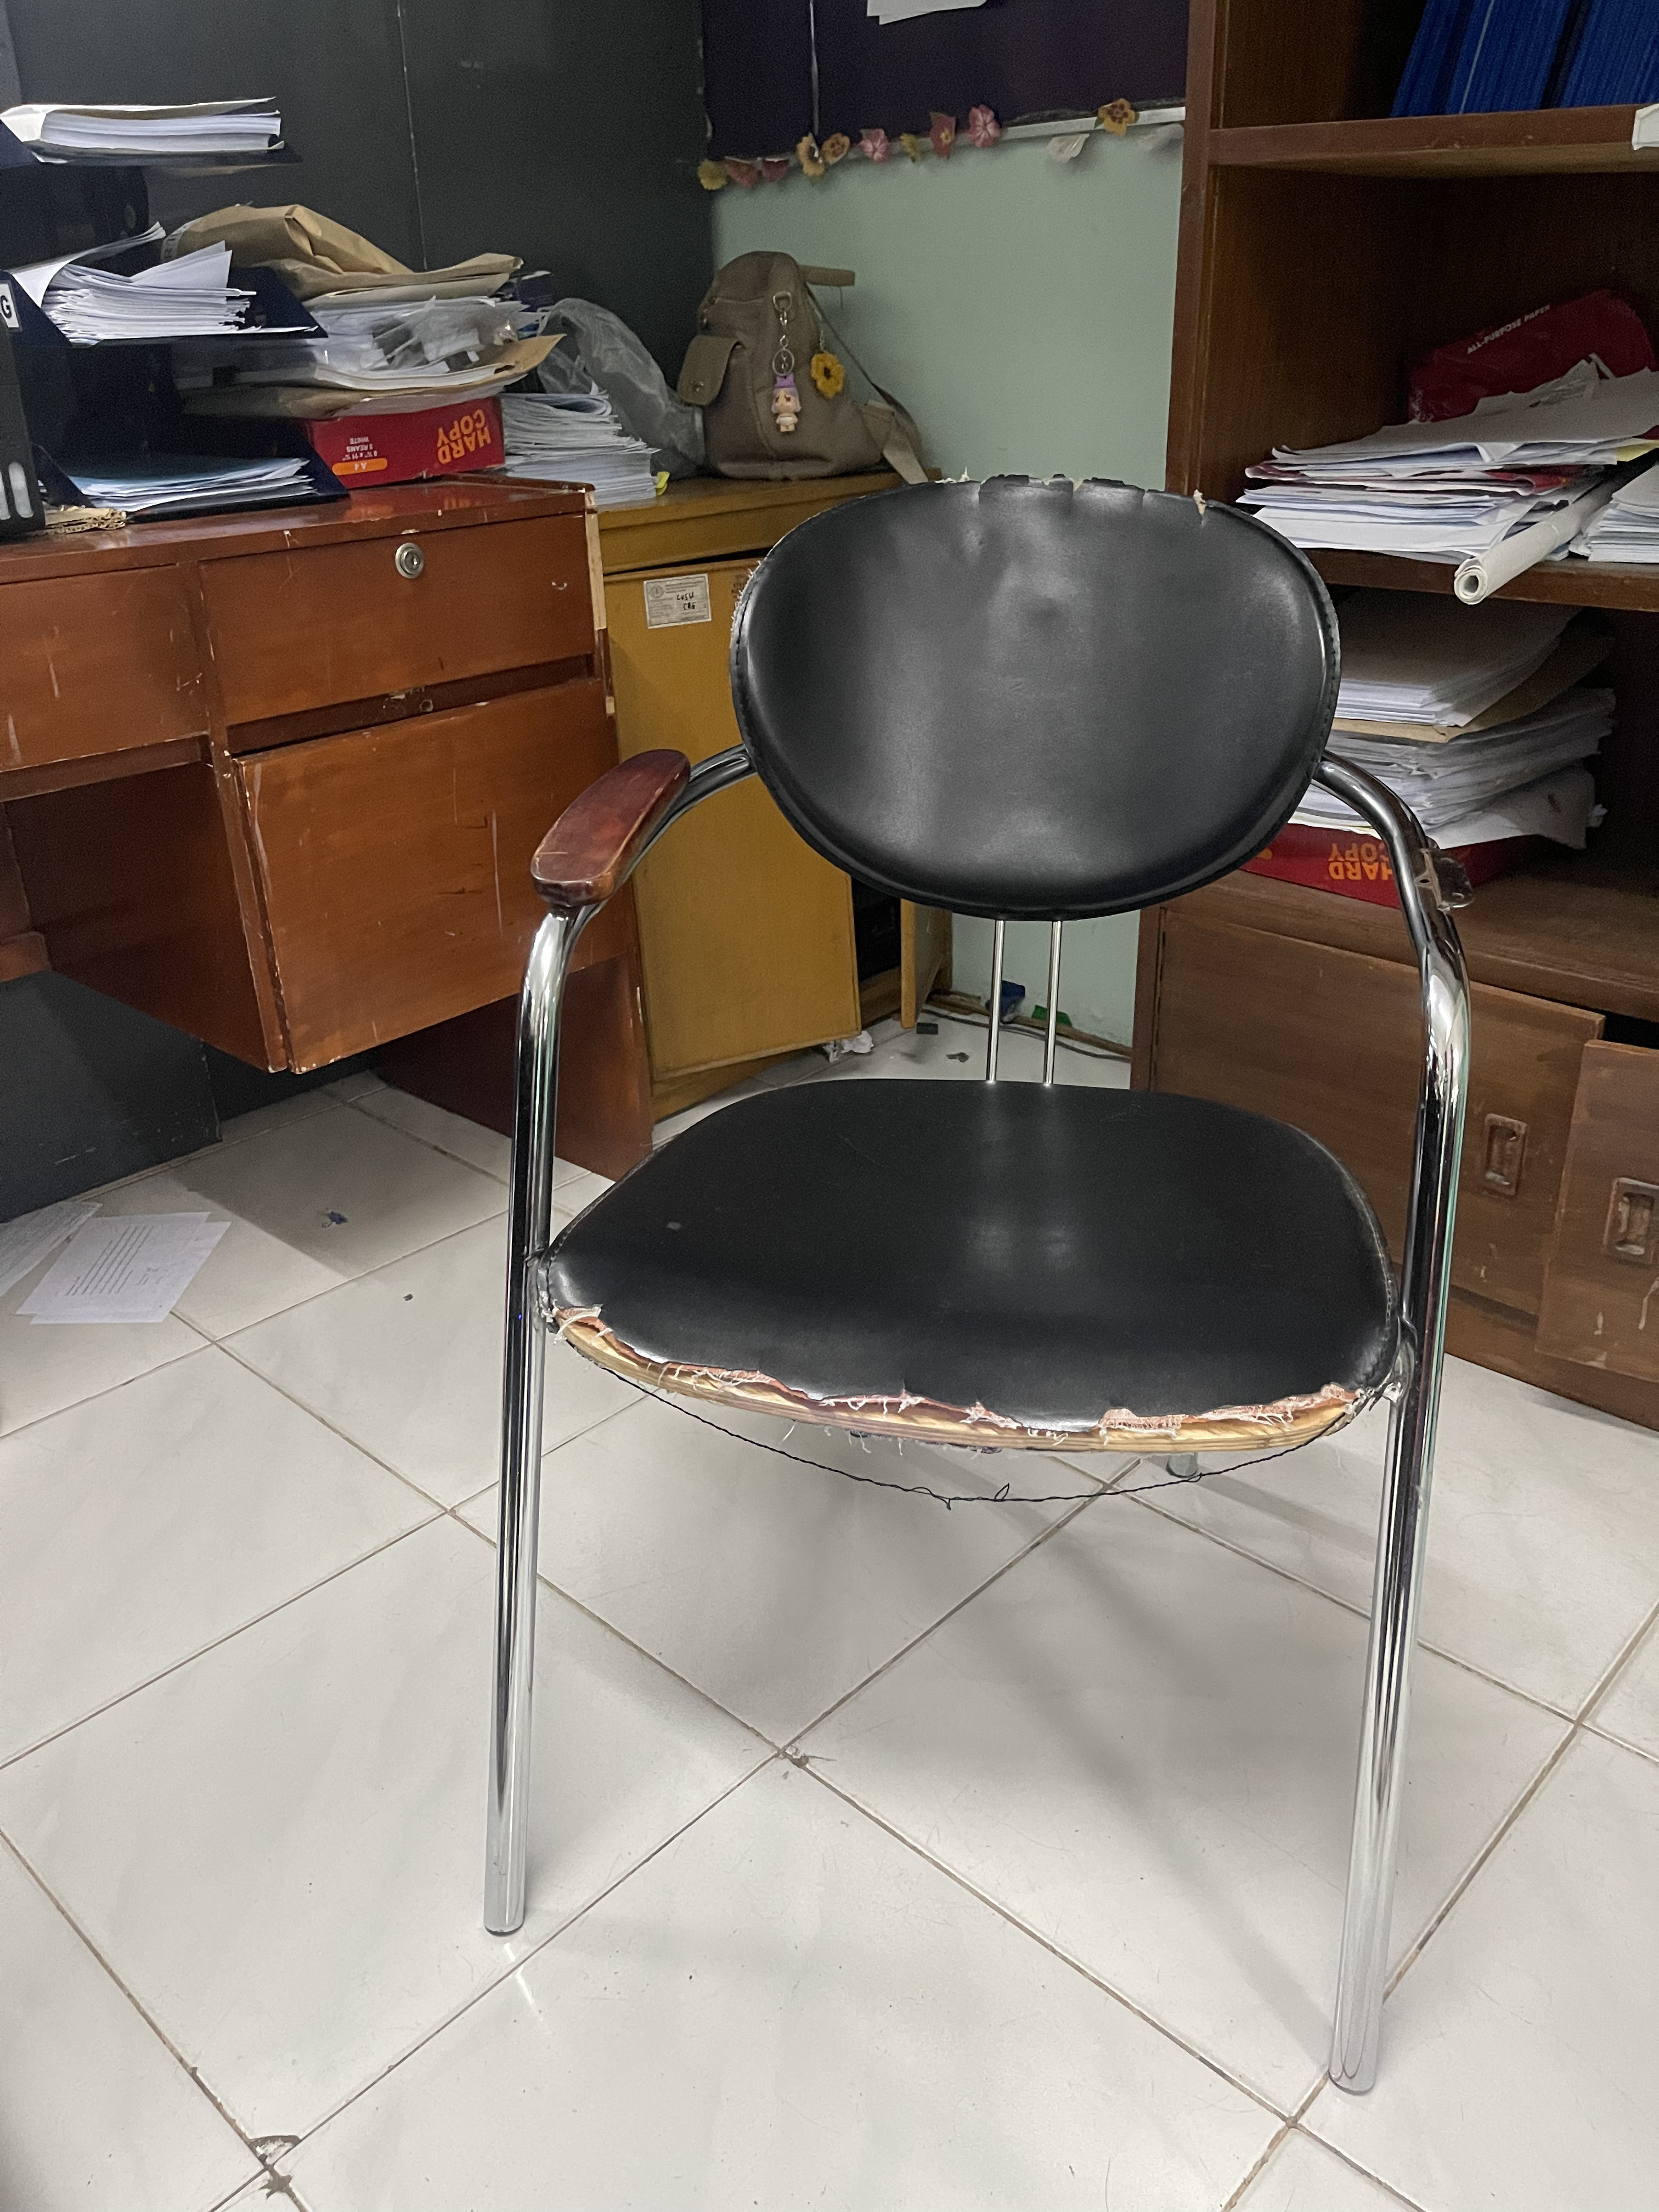chair1: (481, 469, 1483, 2139)
